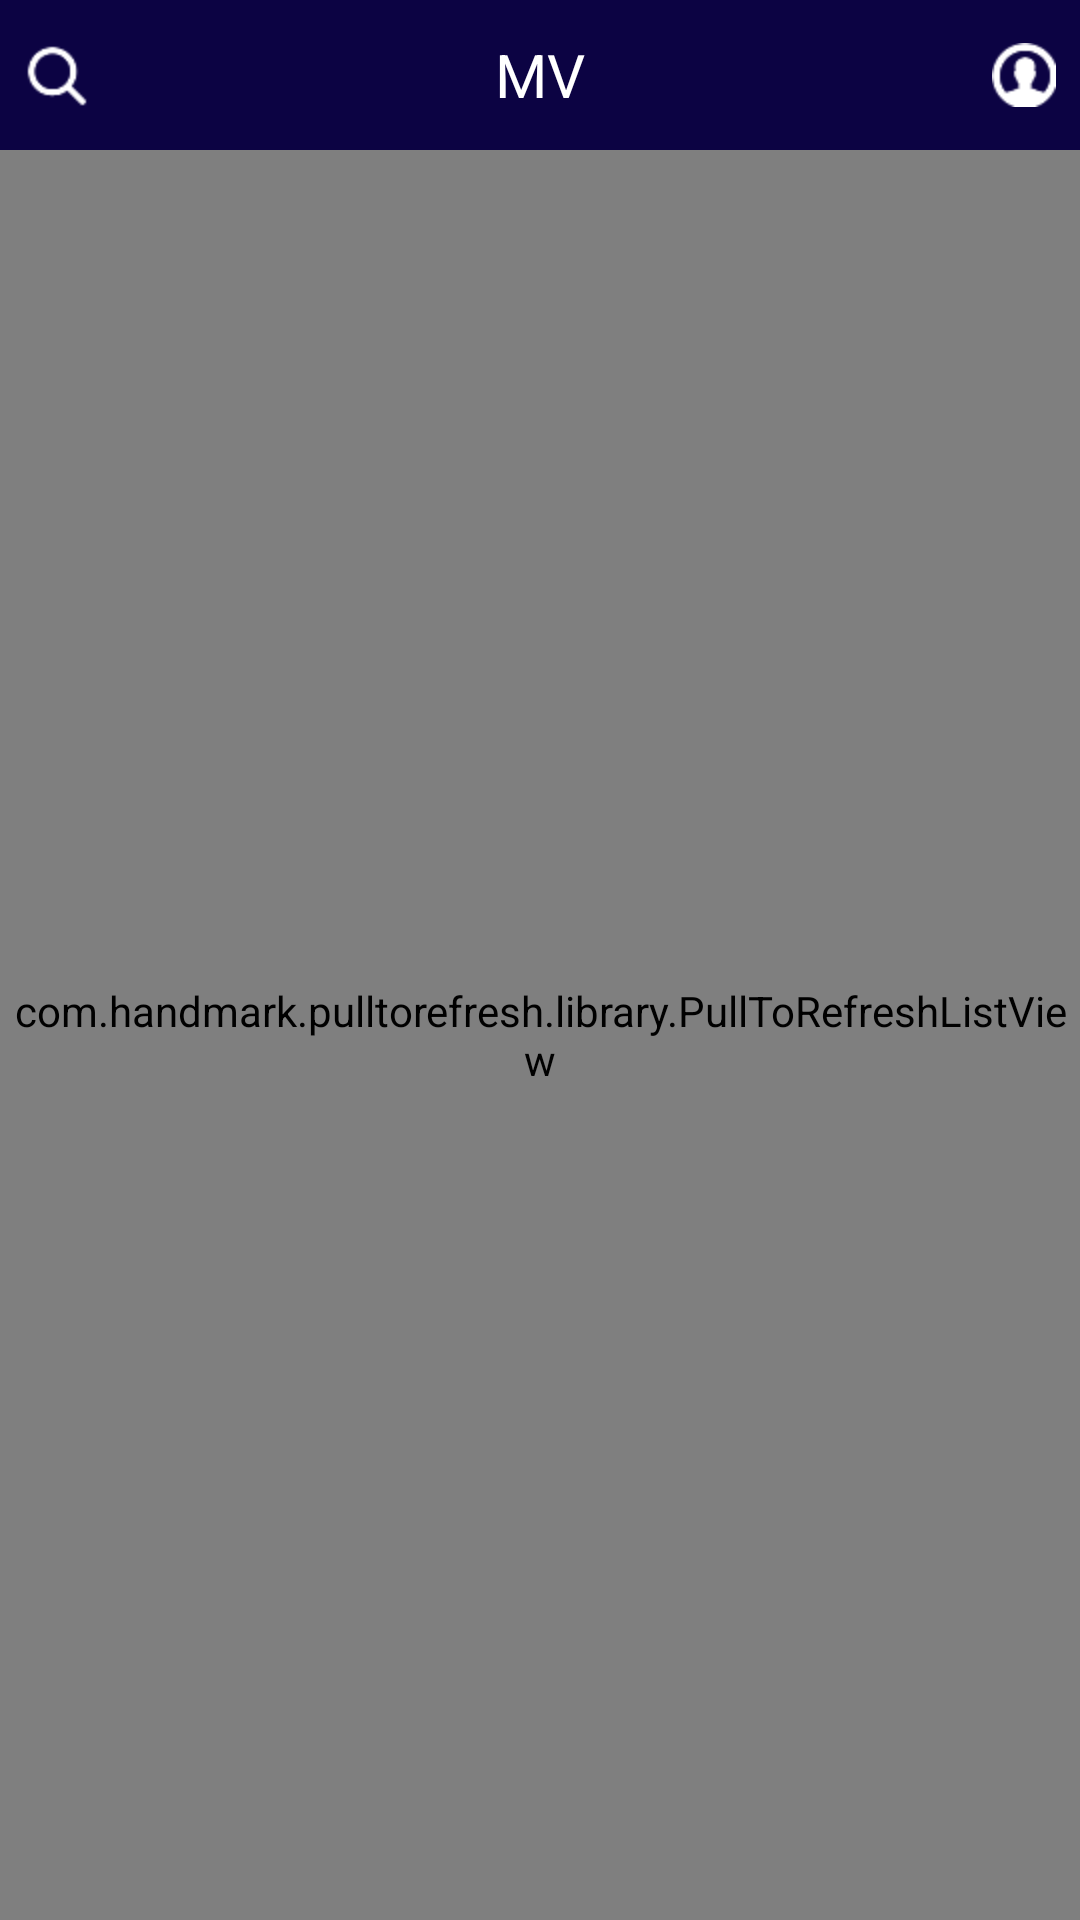

Named icons in this screenshot (1080px x 1920px) and their bounding boxes, [x1, y1, x2, y2]:
login: [992, 43, 1056, 107]
search: [27, 46, 87, 106]
